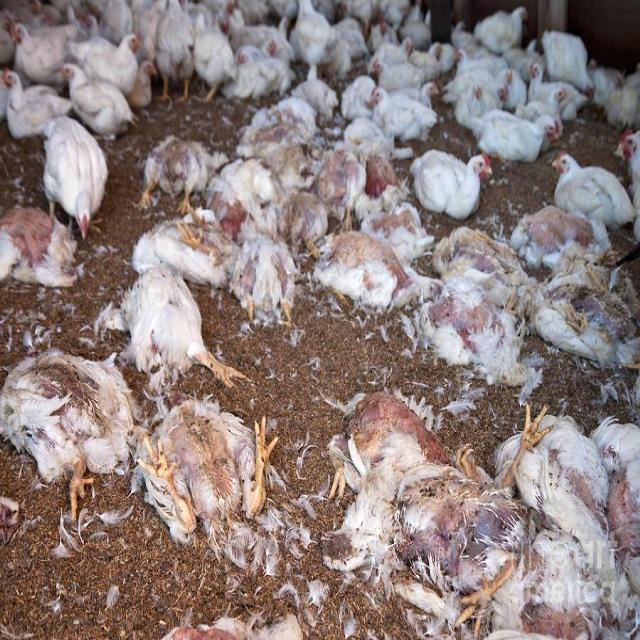Unhealthy: (340, 384, 523, 577), (138, 394, 292, 569), (3, 344, 139, 501)
